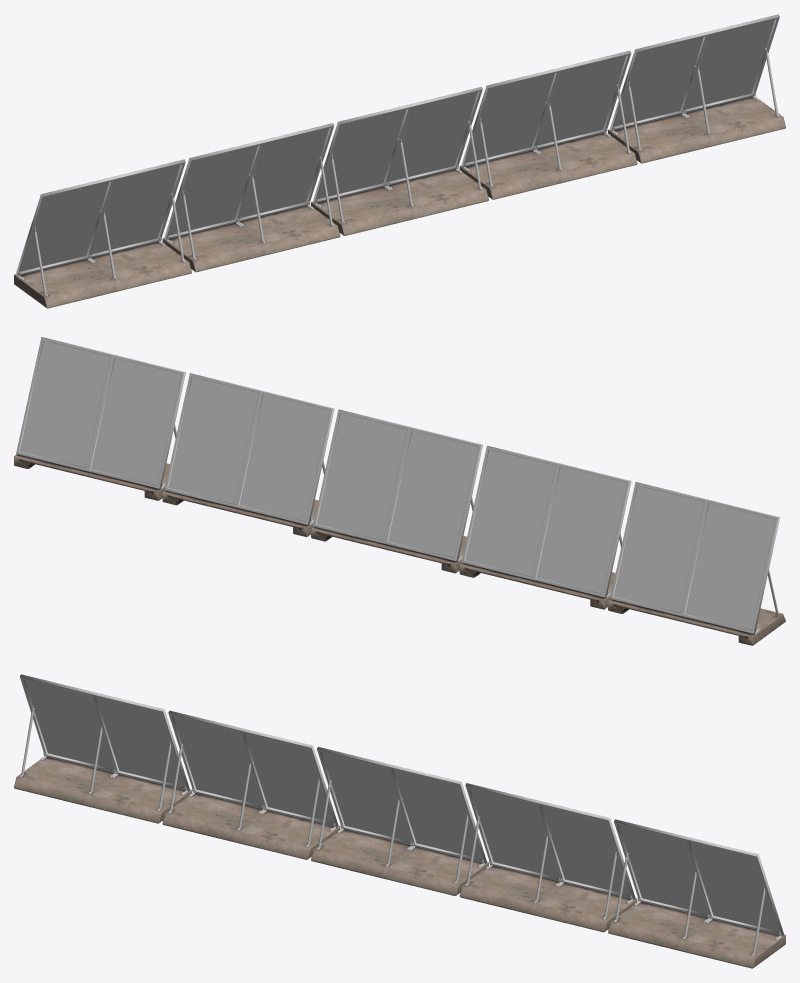
Rendered from zaunblock_01_5er.fbx.
3 views of the same model, one above another, from view 1: azimuth 30°, elevation 25°; view 2: azimuth 150°, elevation 25°; view 3: azimuth 330°, elevation 25° (orthographic).
Visible parts, largest first — view 1: Mesh; view 2: Mesh; view 3: Mesh.
Boxes of the visible parts, x1,y1,x2,y2 form: Mesh: [14, 14, 785, 308]; Mesh: [14, 337, 785, 645]; Mesh: [14, 674, 785, 968].
Bounding box in the file's own units: 1444 × 204 × 113.
